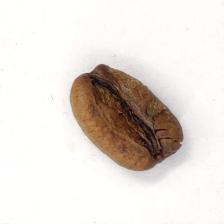NG: (89, 62, 184, 162)
